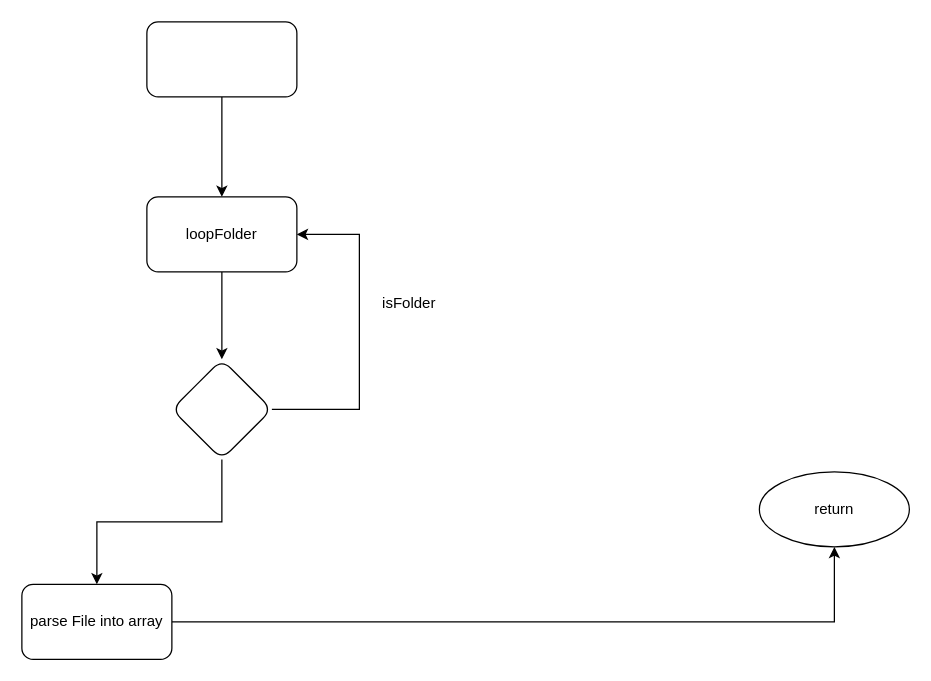
Image size: 931x681. Some labels were removed from this diagram. Here are the shapes that lost their labels. From the top down, the centre of each, then its label:
At [221,59]: "Start(press button)".
At [221,408]: "isFile/folder".
